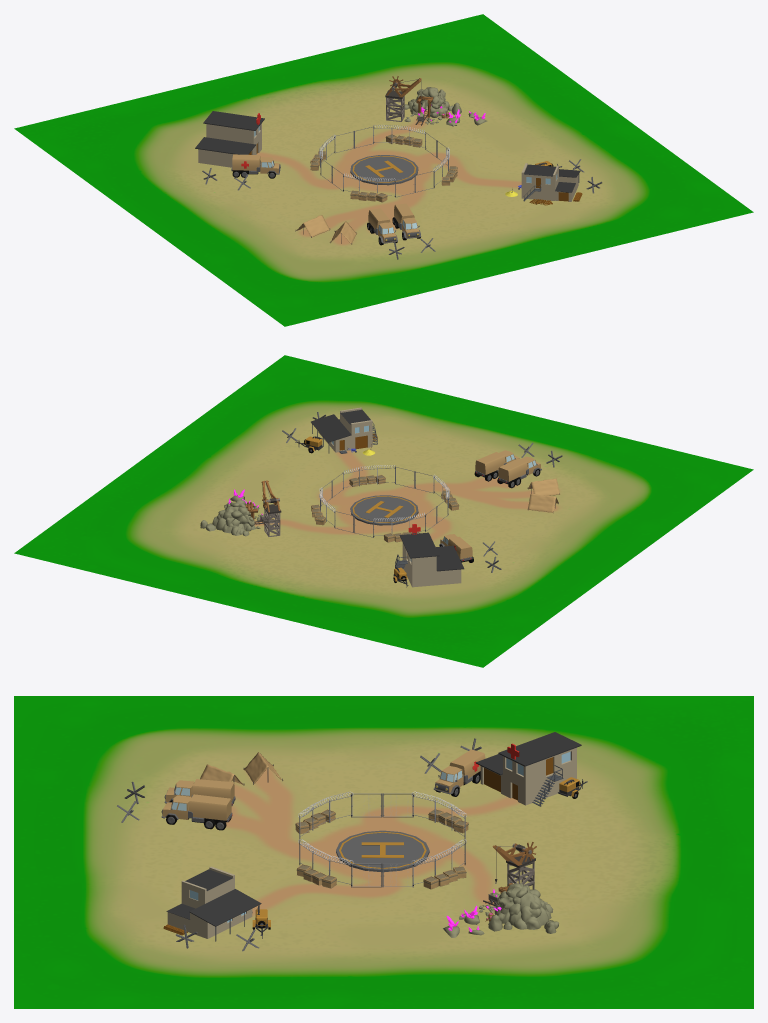
File: map_demo 1.fbx
The picture shows the model from 3 angles, top to bottom: view 1: azimuth 30°, elevation 25°; view 2: azimuth 150°, elevation 25°; view 3: azimuth 270°, elevation 25°; orthographic projection. The views are drawn at different scales.
Visible parts, largest first — view 1: ground, hospital_building, builder_house, Cylinder, cave_entrance, paramedical_truck, metal_fence, cave_crane, Truck.001, Truck; view 2: ground, hospital_building, builder_house, Cylinder, cave_entrance, Truck.001, metal_fence, Truck, cave_crane, paramedical_truck; view 3: ground, hospital_building, builder_house, Cylinder, cave_entrance, Truck, metal_fence, paramedical_truck, cave_crane, Truck.001, Sand_barricade.005, Tent (+2 smaller).
Boxes of the visible parts, x1=… form: ground: x1=14, y1=14, x2=753, y2=326; hospital_building: x1=195, y1=111, x2=264, y2=167; builder_house: x1=521, y1=163, x2=580, y2=201; Cylinder: x1=350, y1=155, x2=418, y2=185; cave_entrance: x1=403, y1=87, x2=461, y2=124; paramedical_truck: x1=231, y1=154, x2=280, y2=178; metal_fence: x1=319, y1=125, x2=449, y2=196; cave_crane: x1=385, y1=76, x2=421, y2=121; Truck.001: x1=367, y1=208, x2=397, y2=245; Truck: x1=392, y1=203, x2=421, y2=240; ground: x1=14, y1=355, x2=753, y2=667; hospital_building: x1=399, y1=532, x2=464, y2=587; builder_house: x1=311, y1=407, x2=377, y2=453; Cylinder: x1=350, y1=495, x2=418, y2=525; cave_entrance: x1=200, y1=500, x2=271, y2=536; Truck.001: x1=497, y1=456, x2=541, y2=488; metal_fence: x1=319, y1=465, x2=449, y2=535; Truck: x1=474, y1=450, x2=519, y2=481; cave_crane: x1=261, y1=480, x2=281, y2=536; paramedical_truck: x1=439, y1=534, x2=473, y2=562; ground: x1=14, y1=696, x2=753, y2=1008; hospital_building: x1=475, y1=732, x2=581, y2=805; builder_house: x1=166, y1=866, x2=261, y2=941; Cylinder: x1=336, y1=830, x2=429, y2=872; cave_entrance: x1=479, y1=883, x2=558, y2=933; Truck: x1=161, y1=794, x2=232, y2=830; metal_fence: x1=298, y1=791, x2=466, y2=887; paramedical_truck: x1=433, y1=749, x2=485, y2=796; cave_crane: x1=492, y1=842, x2=536, y2=889; Truck.001: x1=164, y1=779, x2=235, y2=805; Sand_barricade.005: x1=423, y1=866, x2=466, y2=889; Tent: x1=243, y1=752, x2=283, y2=784.
Bounding box in the file's own units: 2400 × 216 × 2400.
